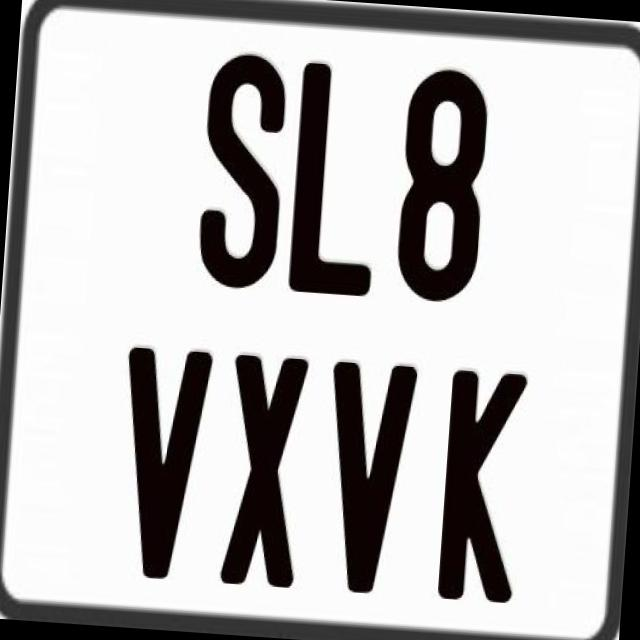8: (389, 64, 487, 308)
K: (434, 368, 526, 612)
L: (287, 59, 385, 293)
S: (193, 51, 296, 298)
V: (316, 359, 416, 595), (111, 342, 210, 580)
X: (217, 353, 305, 594)
